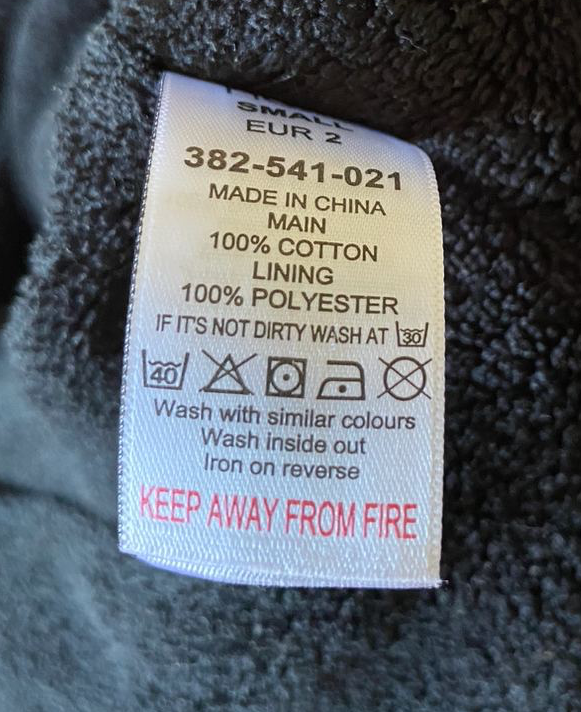do_not_bleach: (196, 348, 263, 396)
do_not_dry_clean: (375, 351, 434, 407)
ironing_at_low_temp: (313, 355, 373, 401)
tumble_drying_low_temps: (263, 353, 313, 399)
wash_at_or_below_30: (394, 317, 434, 350)
wash_at_or_below_40: (139, 348, 191, 391)
